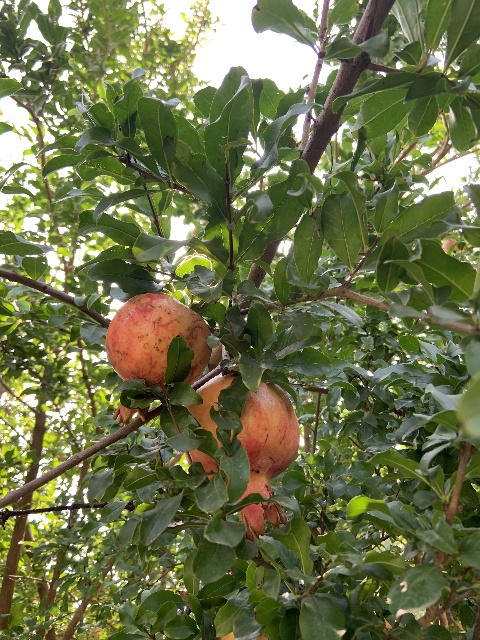ripe: (183, 373, 300, 543), (104, 293, 211, 423)
